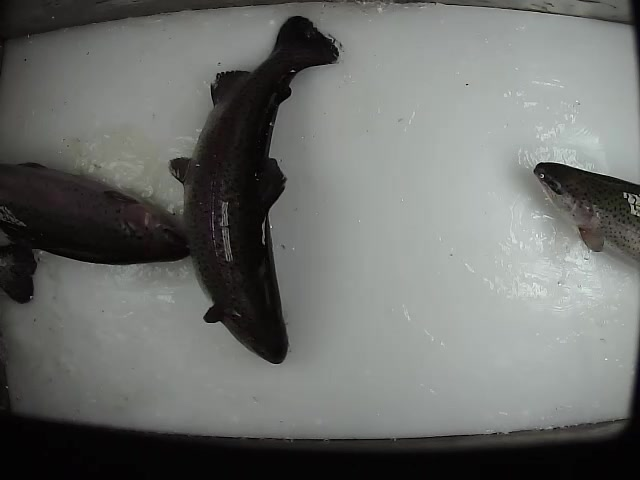fish: (169, 13, 349, 367), (1, 163, 194, 266), (528, 160, 640, 260), (1, 240, 41, 305)
